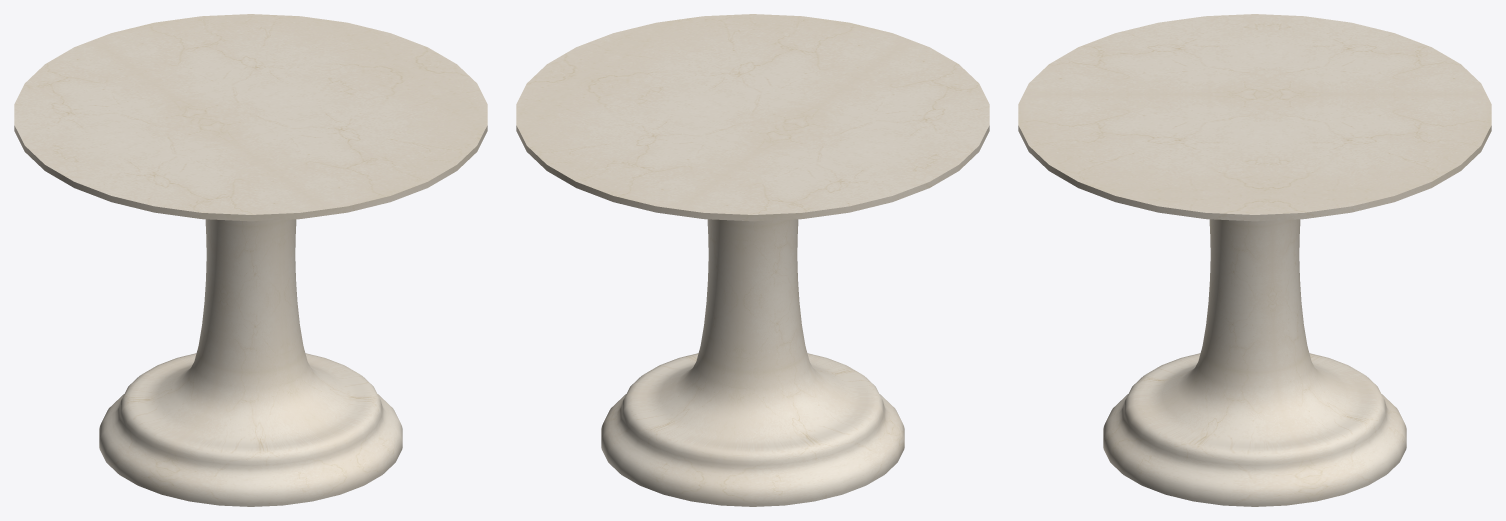
The model's file is Table_Round.FBX.
3 renders of one model, left to right at view 1: azimuth 30°, elevation 25°; view 2: azimuth 150°, elevation 25°; view 3: azimuth 270°, elevation 25°, orthographic.
Visible parts, largest first — view 1: Table_Round; view 2: Table_Round; view 3: Table_Round.
Boxes of the visible parts, x1,y1,x2,y2 form: Table_Round: (14, 14, 487, 506); Table_Round: (516, 14, 989, 506); Table_Round: (1018, 14, 1491, 506).
Bounding box in the file's own units: 48.63 × 48.37 × 37.01.
